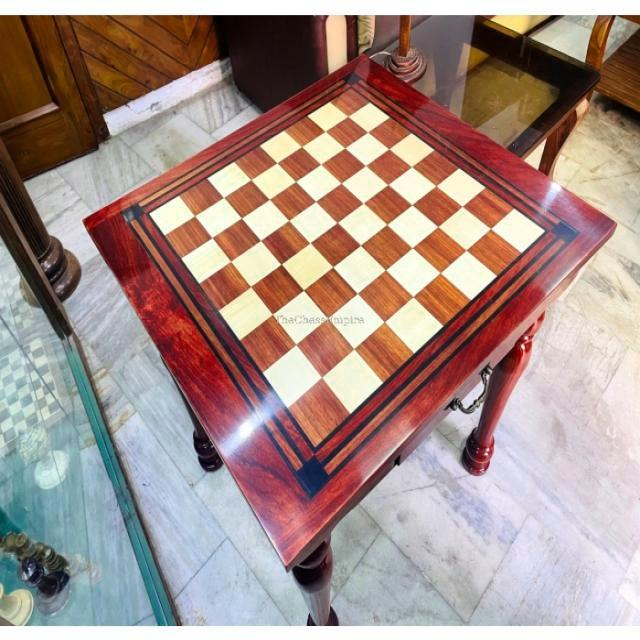chess-table-corners: (301, 428, 331, 458), (528, 216, 554, 244), (338, 80, 364, 104), (138, 202, 160, 230)
